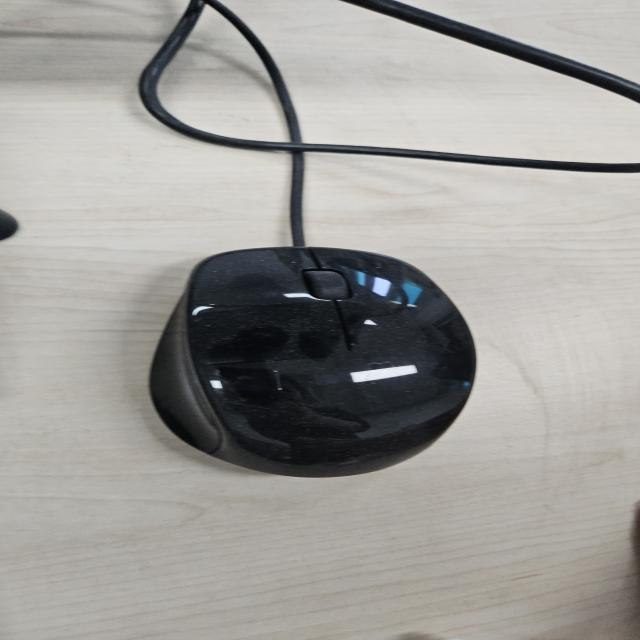Mouse: (146, 244, 480, 479)
